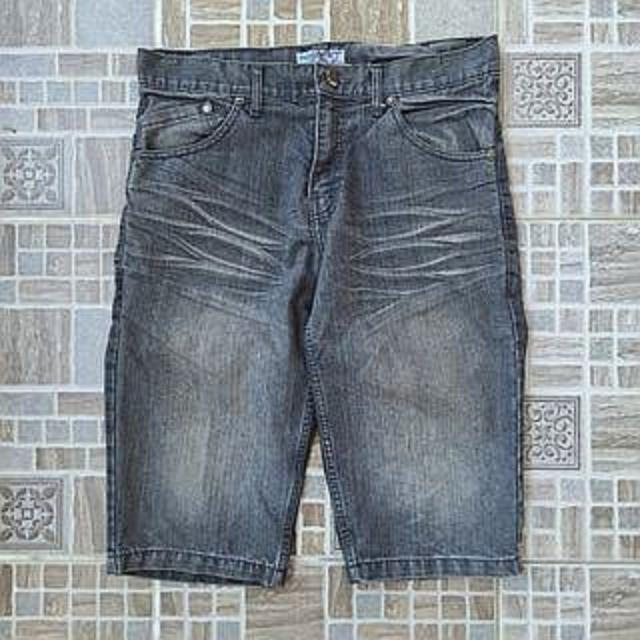TROUSER: (92, 28, 538, 602)
